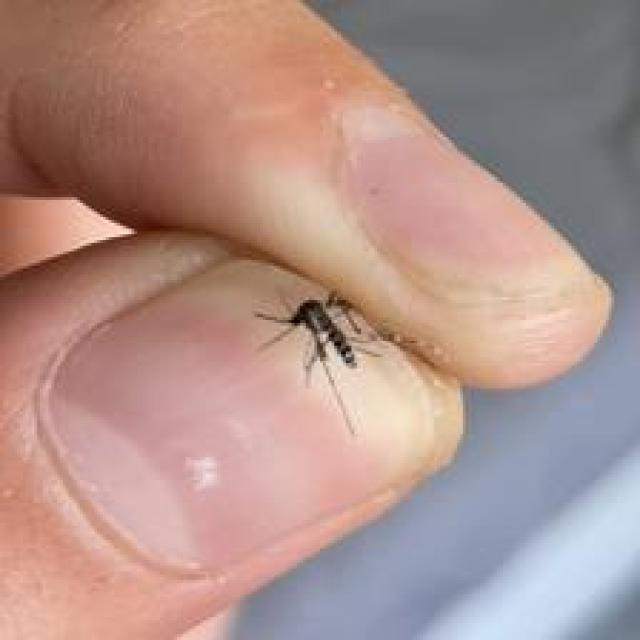Aedes albopictus: (252, 287, 392, 436)
